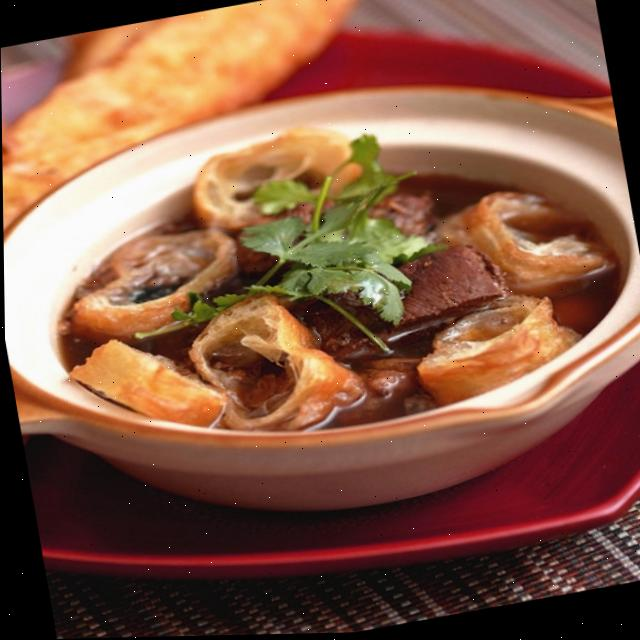汤锅炖物: (5, 43, 640, 530)
